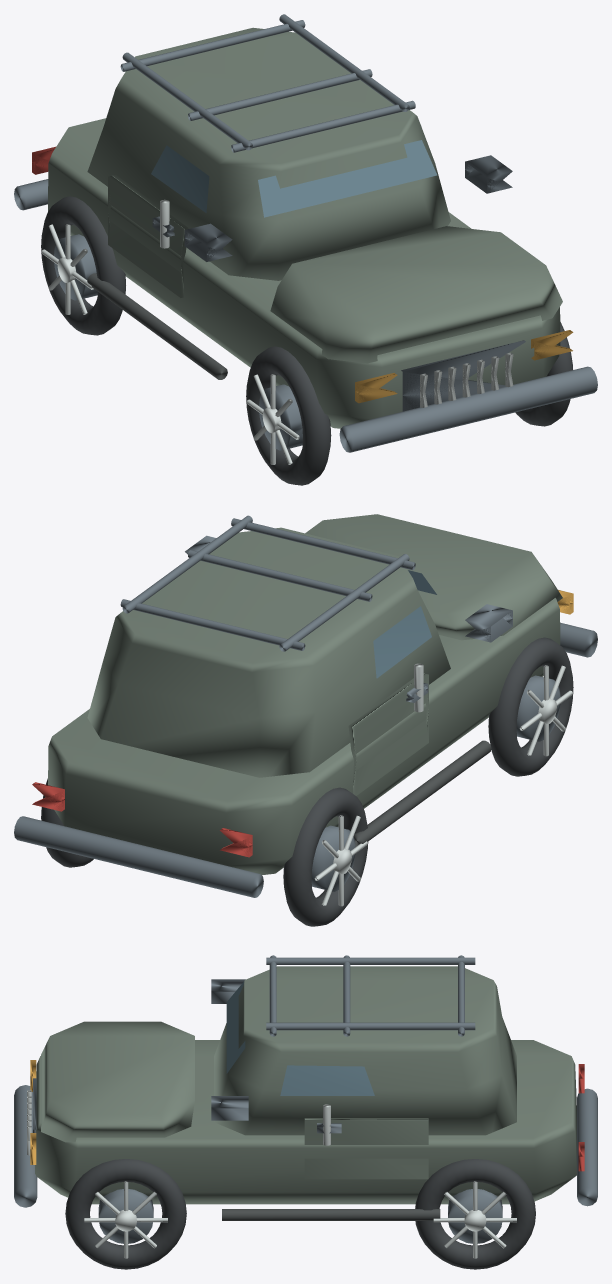
Rendered from javali_vb4.glb.
3 views of the same model, one above another, from view 1: azimuth 30°, elevation 25°; view 2: azimuth 150°, elevation 25°; view 3: azimuth 270°, elevation 25° (orthographic). The views are drawn at different scales.
Parts seen in each view (by area): view 1: cabine_protegida, capo_angulado, carroceria_blindada, para_choque_d, roda_esq_d_pneu, roda_esq_t_pneu, para_brisa, porta_-1, frente_grade, barra_estribo_-1, vidro_lateral_esq, teto_travessa_0.28 (+12 smaller); view 2: cabine_protegida, carroceria_blindada, capo_angulado, para_choque_t, roda_esq_d_pneu, roda_esq_t_pneu, porta_-1, barra_estribo_-1, vidro_lateral_esq, teto_travessa_-1.33, teto_travessa_0.28, teto_travessa_-0.35 (+9 smaller); view 3: cabine_protegida, carroceria_blindada, capo_angulado, roda_dir_d_pneu, roda_dir_t_pneu, porta_1, vidro_lateral_dir, barra_estribo_1, para_choque_t, para_choque_d, teto_longarina_0.66, roda_dir_d_cubo (+8 smaller).
Boxes of the visible parts, box(x1,y1,x2,y2) form: cabine_protegida: box(87, 27, 450, 280); capo_angulado: box(270, 226, 562, 363); carroceria_blindada: box(48, 118, 560, 428); para_choque_d: box(339, 366, 597, 452); roda_esq_d_pneu: box(246, 346, 331, 485); roda_esq_t_pneu: box(41, 196, 125, 335); para_brisa: box(258, 140, 436, 217); porta_-1: box(108, 175, 188, 297); frente_grade: box(401, 340, 525, 411); barra_estribo_-1: box(87, 273, 227, 379); vidro_lateral_esq: box(151, 145, 209, 212); teto_travessa_0.28: box(231, 100, 415, 152); cabine_protegida: box(87, 527, 450, 777); carroceria_blindada: box(48, 598, 560, 875); capo_angulado: box(305, 514, 562, 640); para_choque_t: box(14, 816, 263, 897); roda_esq_d_pneu: box(488, 637, 573, 776); roda_esq_t_pneu: box(283, 787, 368, 926); porta_-1: box(348, 673, 428, 795); barra_estribo_-1: box(353, 740, 491, 846); vidro_lateral_esq: box(373, 606, 431, 678); teto_travessa_-1.33: box(120, 599, 305, 650); teto_travessa_0.28: box(231, 518, 415, 570); teto_travessa_-0.35: box(188, 550, 372, 601); cabine_protegida: box(214, 966, 516, 1135); carroceria_blindada: box(35, 1040, 576, 1204); capo_angulado: box(41, 1021, 194, 1142); roda_dir_d_pneu: box(65, 1159, 186, 1269); roda_dir_t_pneu: box(415, 1159, 535, 1269); porta_1: box(304, 1118, 428, 1179); vidro_lateral_dir: box(280, 1065, 374, 1095); barra_estribo_1: box(222, 1209, 440, 1220); para_choque_t: box(577, 1088, 597, 1206); para_choque_d: box(14, 1085, 37, 1207); teto_longarina_0.66: box(266, 1022, 475, 1030); roda_dir_d_cubo: box(98, 1189, 153, 1243).
Size of the model in its own units: 2.58 by 2.15 by 5.
